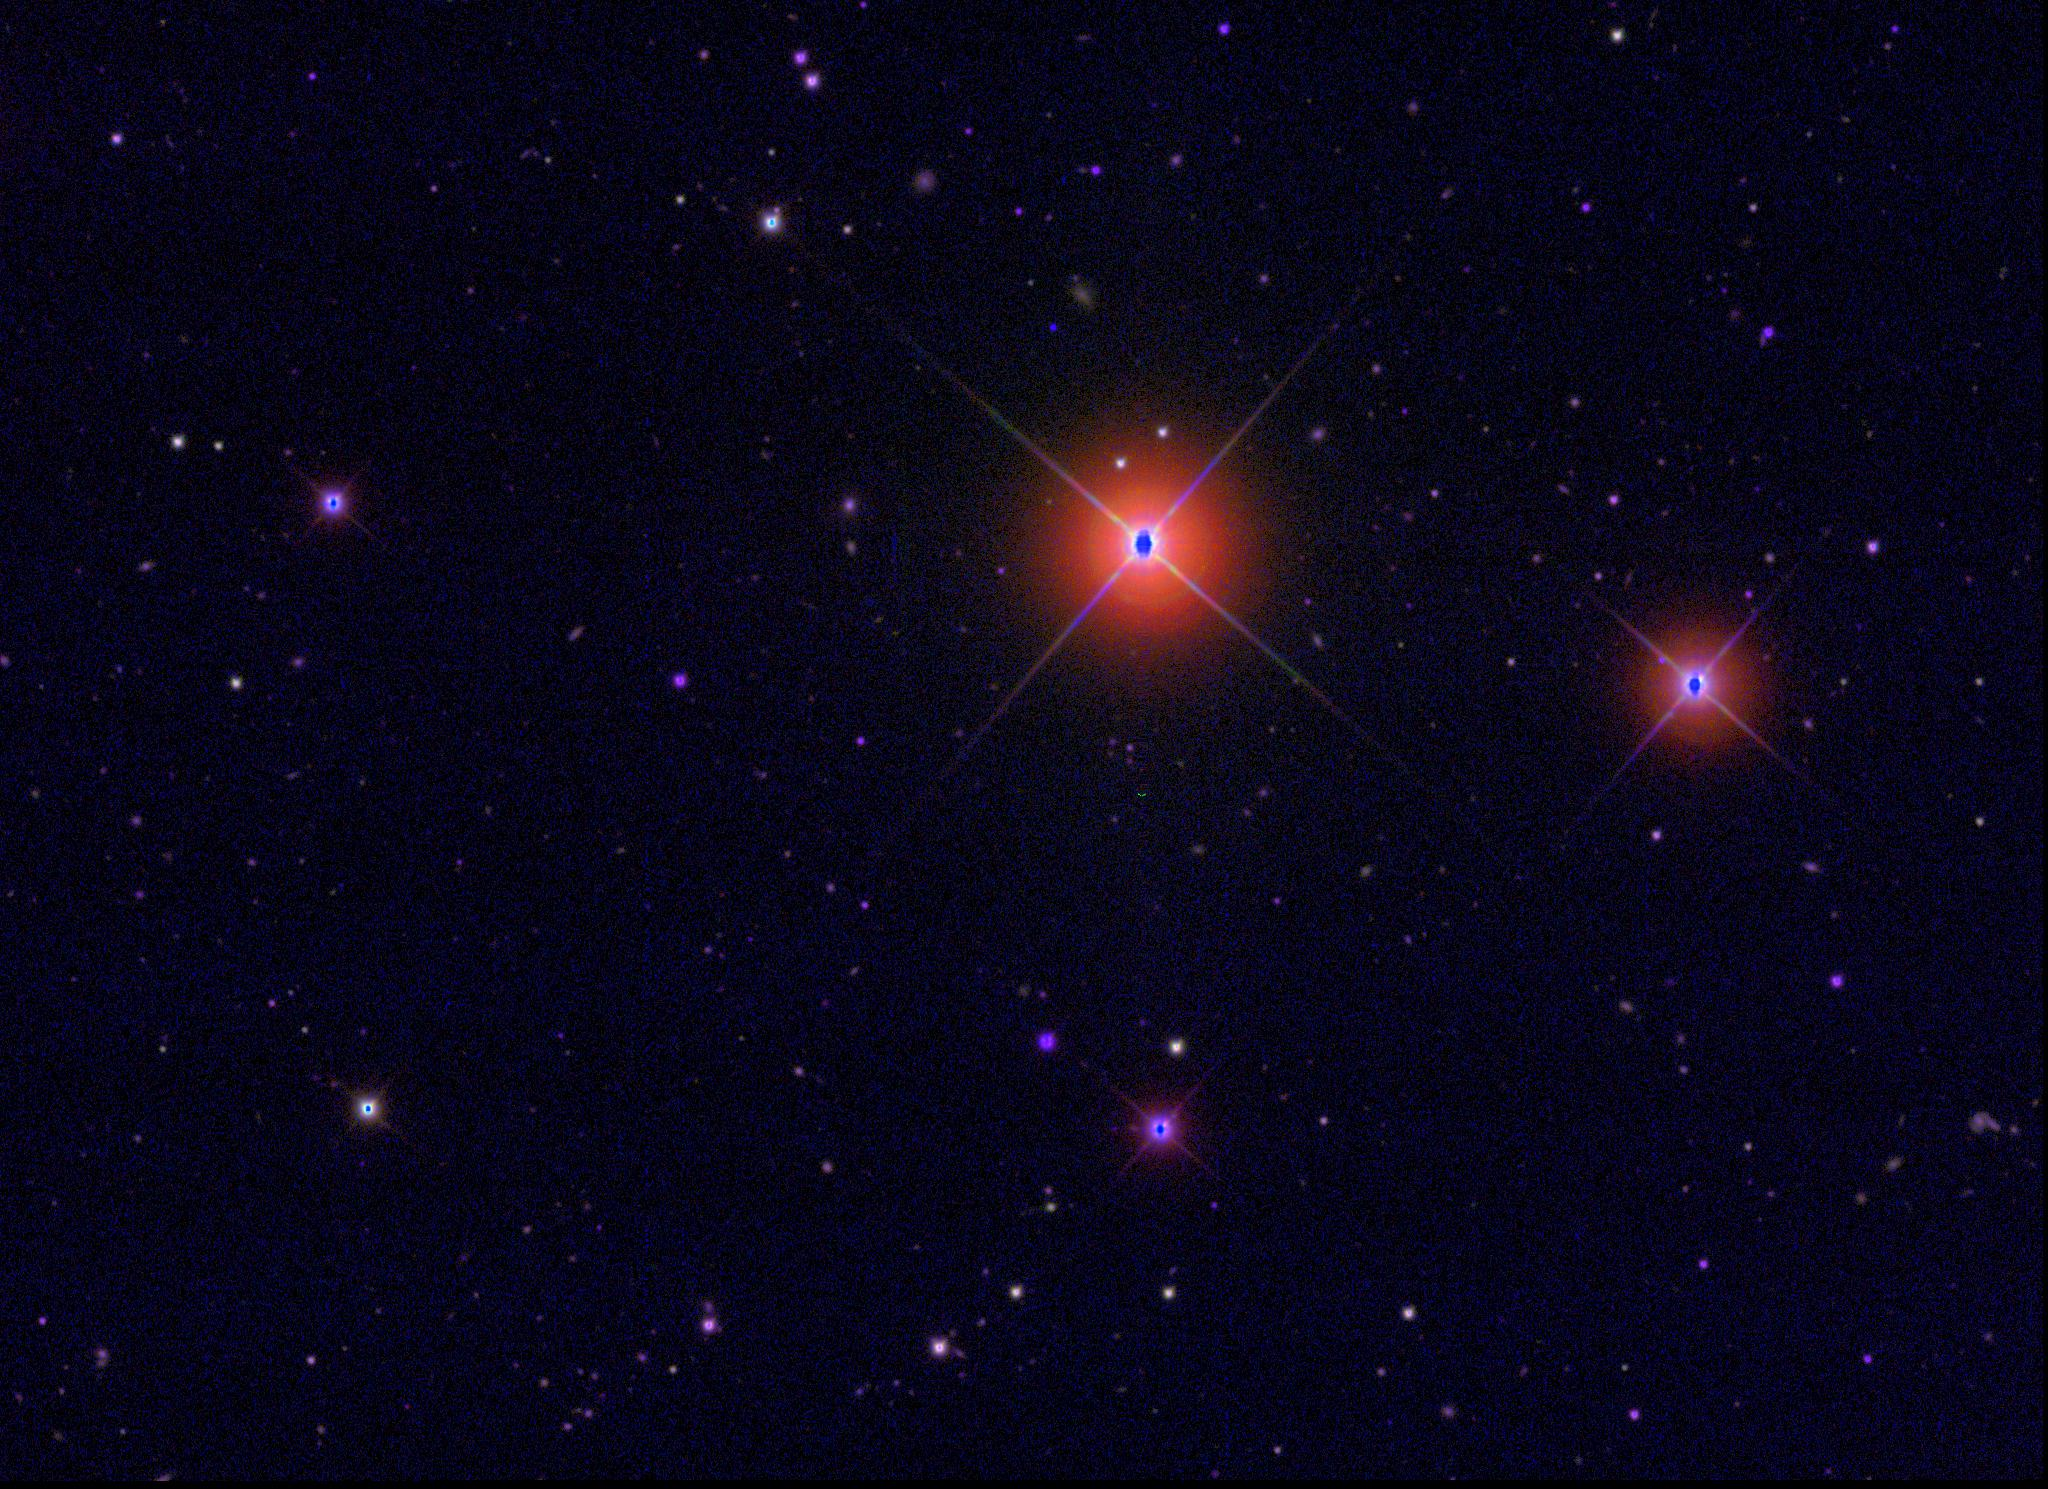L: (1045, 321, 1057, 336)
